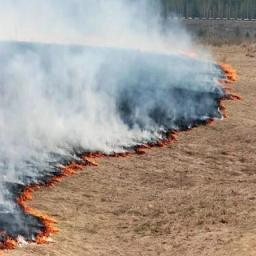Low smoke: (1, 0, 212, 154)
Small fire: (19, 185, 60, 245), (57, 157, 105, 180), (215, 59, 241, 83)
